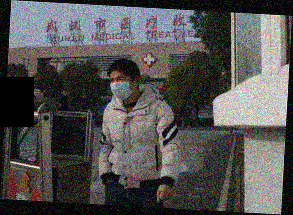with_mask: (108, 75, 134, 100)
